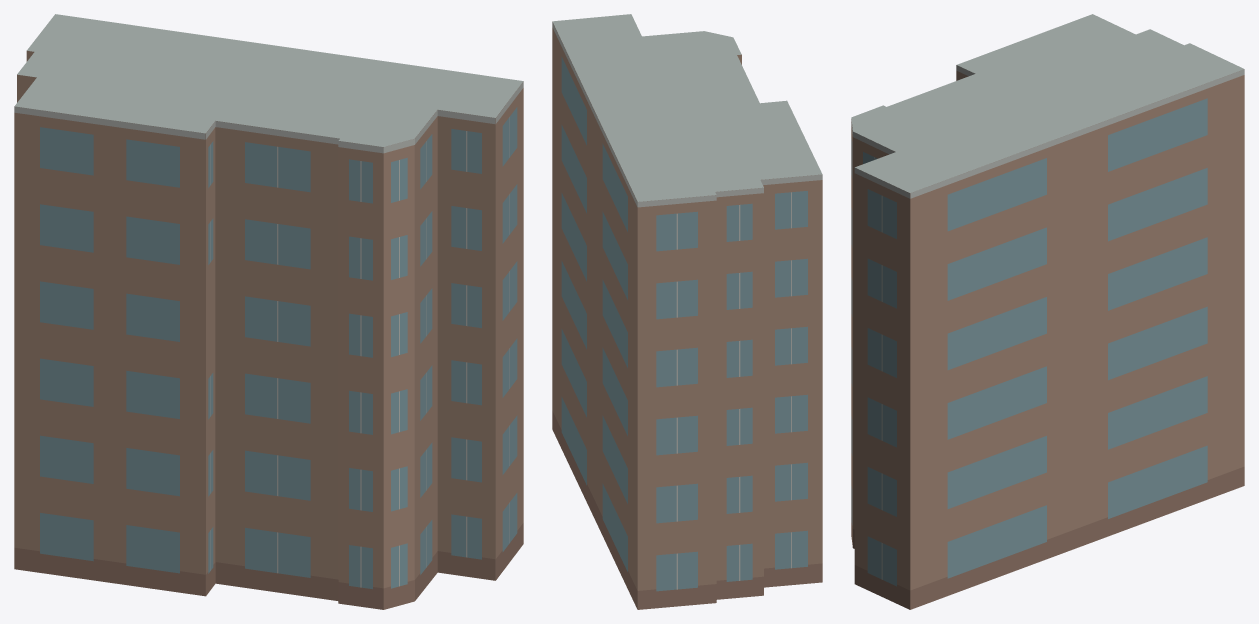
The model's file is survey-upis-32984573.glb.
3 renders of one model, left to right at view 1: azimuth 30°, elevation 25°; view 2: azimuth 150°, elevation 25°; view 3: azimuth 270°, elevation 25°, orthographic. The views are drawn at different scales.
Parts seen in each view (by area): view 1: survey-upis-32984573.tmp; view 2: survey-upis-32984573.tmp; view 3: survey-upis-32984573.tmp.
Boxes of the visible parts, box(x1,y1,x2,y2) form: survey-upis-32984573.tmp: box(14, 14, 523, 609); survey-upis-32984573.tmp: box(552, 14, 822, 609); survey-upis-32984573.tmp: box(851, 14, 1244, 609).
Size of the model in its own units: 16.56 by 17.95 by 15.37.
